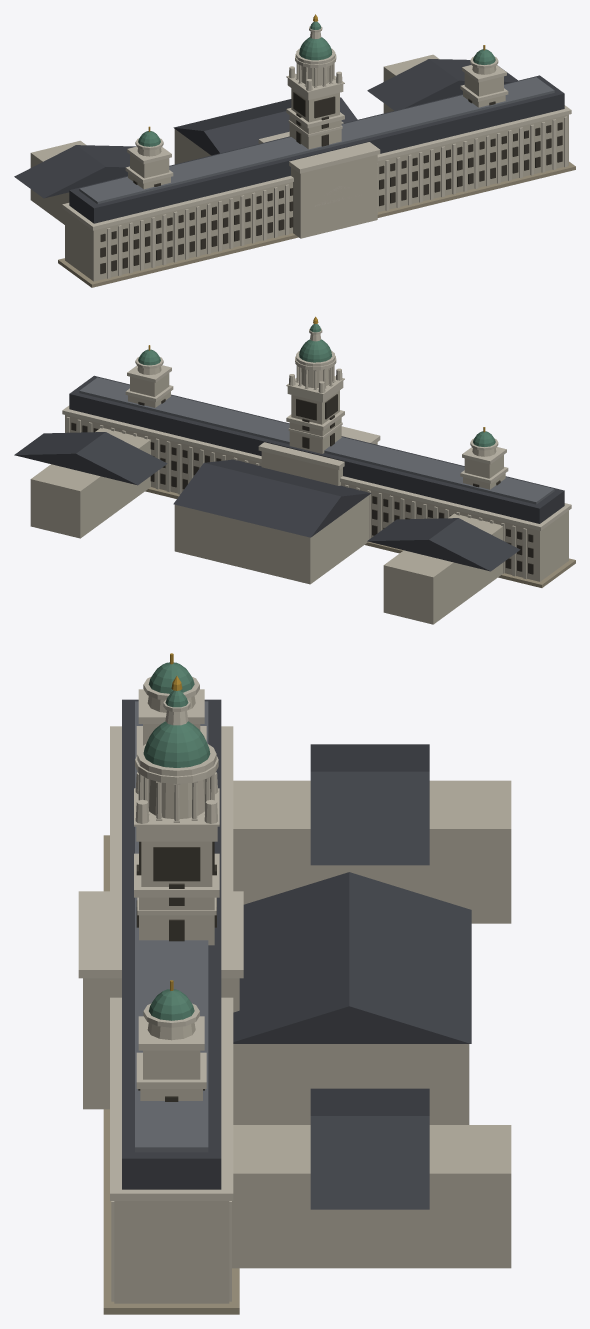
Rendered from imperial_institute.glb.
The picture shows the model from 3 angles, top to bottom: view 1: azimuth 30°, elevation 25°; view 2: azimuth 150°, elevation 25°; view 3: azimuth 270°, elevation 25°; orthographic projection. The views are drawn at different scales.
Parts seen in each view (by area): view 1: imperial_institute; view 2: imperial_institute; view 3: imperial_institute.
Boxes of the visible parts, <box> form: imperial_institute: <box>14,14,575,287</box>; imperial_institute: <box>14,316,575,624</box>; imperial_institute: <box>78,653,511,1314</box>.
Bounding box in the file's own units: 214 × 85.1 × 82.8.
